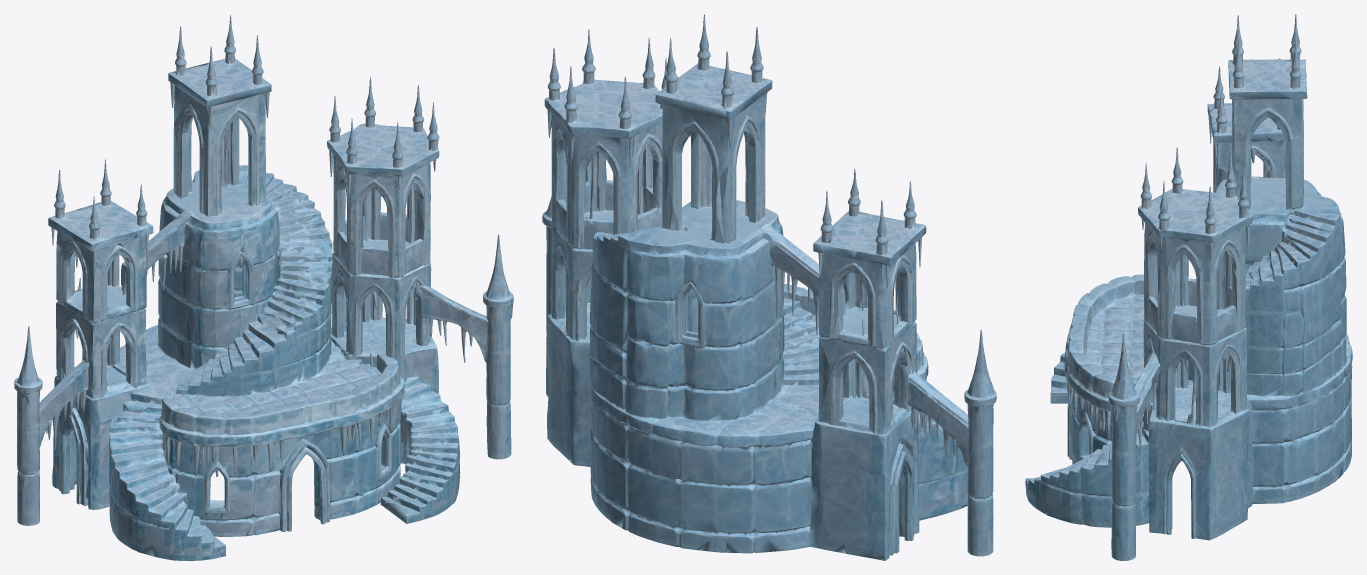
Rendered from ice_castle.glb.
3 renders of one model, left to right at view 1: azimuth 30°, elevation 25°; view 2: azimuth 150°, elevation 25°; view 3: azimuth 270°, elevation 25°, orthographic. The views are drawn at different scales.
Parts seen in each view (by area): view 1: ice_castle; view 2: ice_castle; view 3: ice_castle.
Part boxes in pixels (x1,y1,x2,y2): ice_castle: (14, 14, 513, 560); ice_castle: (542, 14, 996, 560); ice_castle: (1025, 14, 1352, 560).
Bounding box in the file's own units: 1.9 × 1.72 × 1.2.
1 material, 1 textured.
